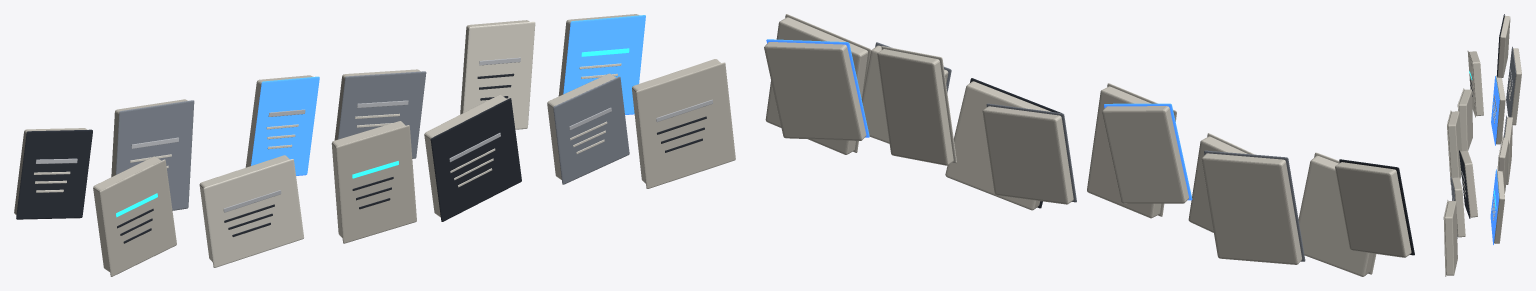
Rendered from hero-documents-master.glb.
3 views of the same model, side by side, from view 1: azimuth 30°, elevation 25°; view 2: azimuth 150°, elevation 25°; view 3: azimuth 270°, elevation 25° (orthographic). The views are drawn at different scales.
Visible parts, largest first — view 1: Knowledge Notes spine, Contract spine, Spreadsheet spine, Policy spine, Research Paper spine, Annual Report spine, Dataset Dictionary spine, Support Logs spine, Technical Manual spine, Public Filing spine, Presentation spine, Scanned Archive spine (+12 smaller); view 2: Technical Manual volume, Public Filing volume, Scanned Archive volume, Presentation volume, Dataset Dictionary volume, Annual Report volume, Research Paper volume, Policy volume, Spreadsheet volume, Knowledge Notes volume, Support Logs volume, Contract volume (+7 smaller); view 3: Knowledge Notes volume, Spreadsheet volume, Contract volume, Policy volume, Research Paper volume, Annual Report volume, Support Logs volume, Technical Manual volume, Public Filing volume, Presentation volume, Technical Manual spine, Public Filing spine (+9 smaller).
Part boxes in pixels (left/top/right/bottom): Knowledge Notes spine: left=636, top=62, right=735, bottom=188; Contract spine: left=203, top=159, right=303, bottom=267; Spreadsheet spine: left=335, top=125, right=416, bottom=243; Policy spine: left=430, top=98, right=521, bottom=221; Research Paper spine: left=99, top=159, right=176, bottom=276; Annual Report spine: left=16, top=129, right=92, bottom=219; Dataset Dictionary spine: left=463, top=21, right=535, bottom=129; Support Logs spine: left=553, top=76, right=629, bottom=184; Technical Manual spine: left=116, top=100, right=194, bottom=210; Public Filing spine: left=563, top=15, right=645, bottom=114; Presentation spine: left=251, top=76, right=319, bottom=175; Scanned Archive spine: left=338, top=71, right=426, bottom=158; Technical Manual volume: left=1201, top=153, right=1301, bottom=264; Public Filing volume: left=764, top=42, right=866, bottom=140; Scanned Archive volume: left=982, top=106, right=1073, bottom=204; Presentation volume: left=1102, top=106, right=1188, bottom=203; Dataset Dictionary volume: left=877, top=49, right=953, bottom=165; Annual Report volume: left=1335, top=162, right=1411, bottom=257; Research Paper volume: left=1298, top=155, right=1373, bottom=276; Policy volume: left=945, top=81, right=1051, bottom=210; Spreadsheet volume: left=1087, top=86, right=1161, bottom=218; Knowledge Notes volume: left=765, top=17, right=867, bottom=154; Support Logs volume: left=862, top=45, right=948, bottom=143; Contract volume: left=1188, top=136, right=1247, bottom=232; Knowledge Notes volume: left=1444, top=201, right=1457, bottom=275; Spreadsheet volume: left=1448, top=111, right=1461, bottom=179; Contract volume: left=1459, top=89, right=1472, bottom=151; Policy volume: left=1460, top=150, right=1477, bottom=217; Research Paper volume: left=1469, top=51, right=1483, bottom=115; Annual Report volume: left=1498, top=15, right=1510, bottom=77; Support Logs volume: left=1452, top=177, right=1465, bottom=237; Technical Manual volume: left=1511, top=48, right=1521, bottom=125; Public Filing volume: left=1494, top=171, right=1504, bottom=243; Presentation volume: left=1496, top=77, right=1505, bottom=144; Technical Manual spine: left=1506, top=46, right=1516, bottom=117; Public Filing spine: left=1490, top=169, right=1499, bottom=244.
Size of the model in its own units: 8.28 by 2.44 by 1.51.
